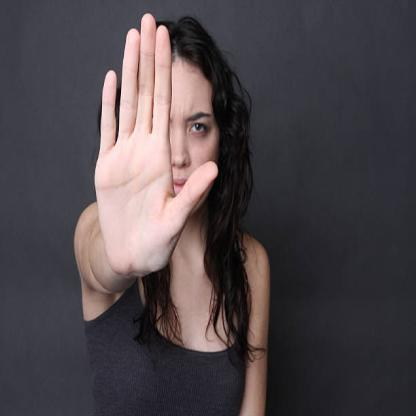stop: (92, 11, 220, 278)
